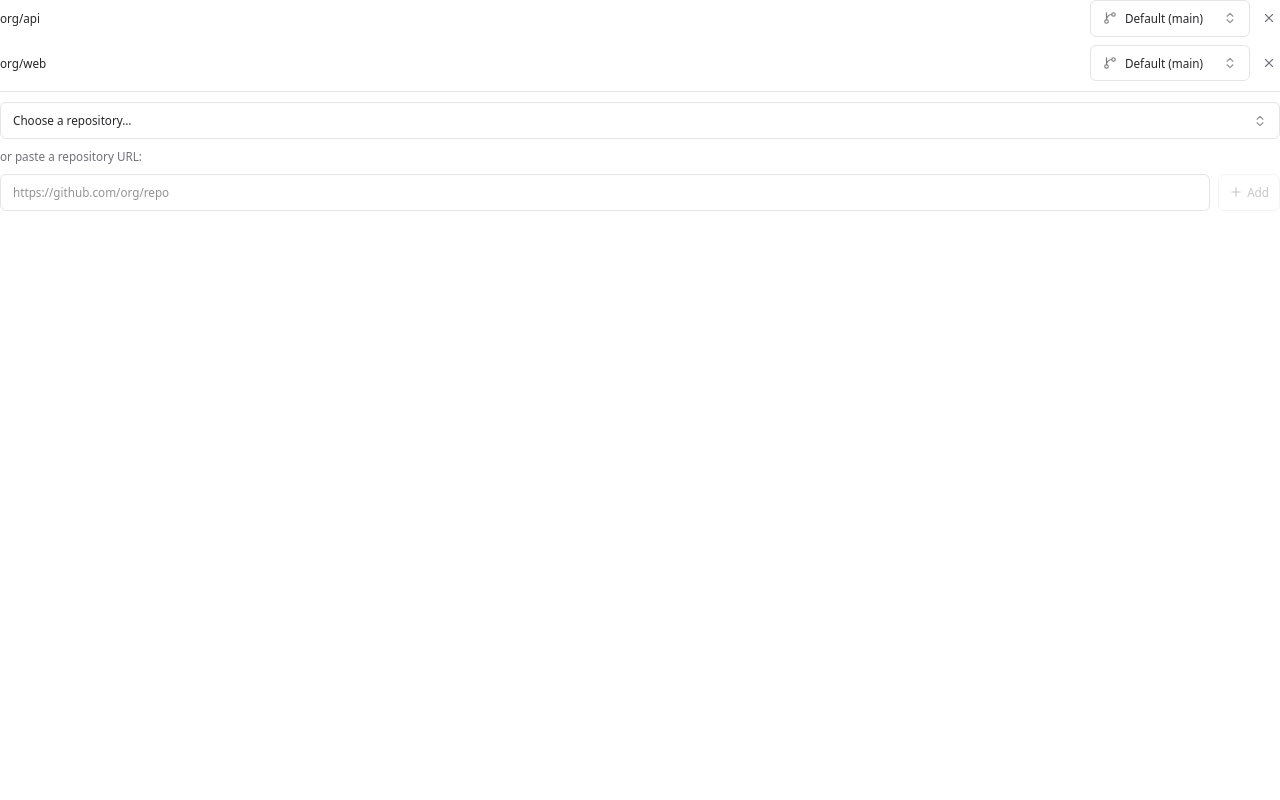
Scenario: SandboxRepositoryPicker › loads only the opened repository's branches and reuses them when reopened
Click the dropdown named "Branch for org/api": (1170, 18) x1=1090 y1=0 x2=1250 y2=37
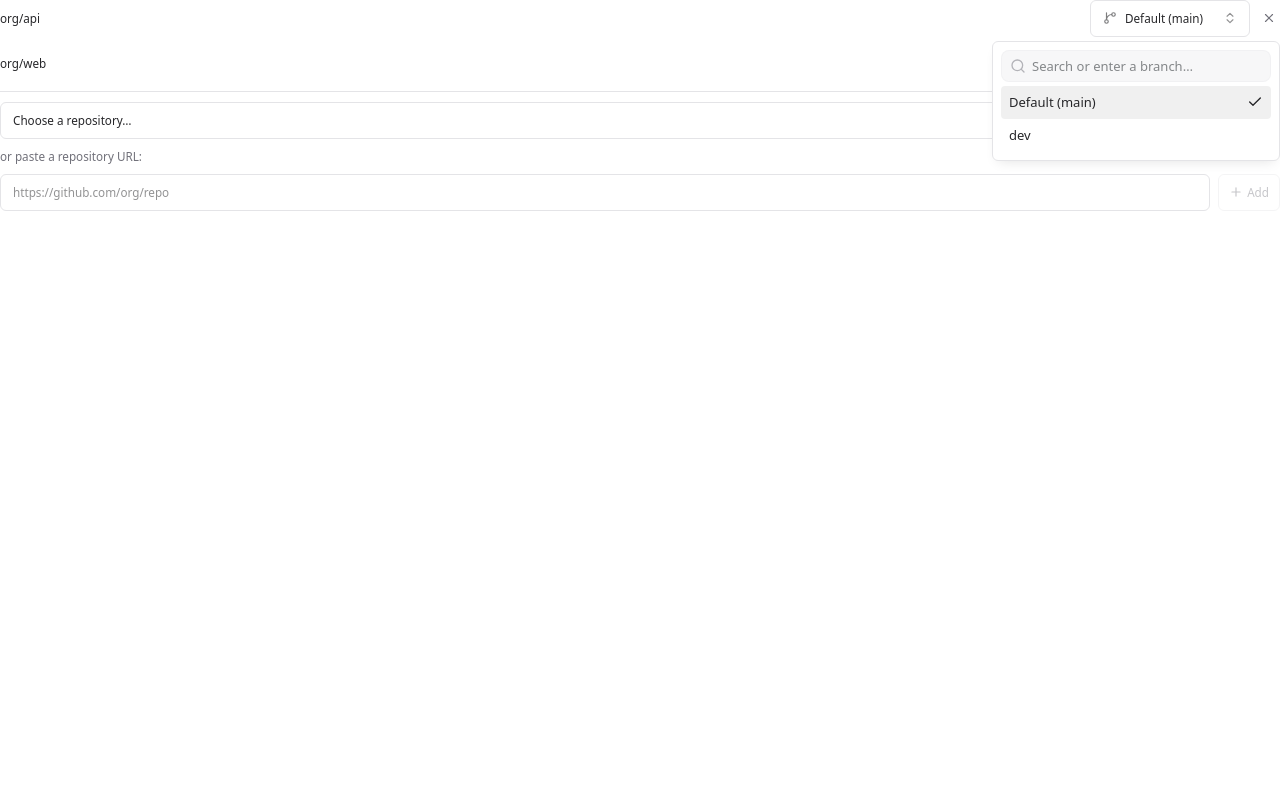
Click the option "dev": (1020, 135) x1=1009 y1=126 x2=1031 y2=144
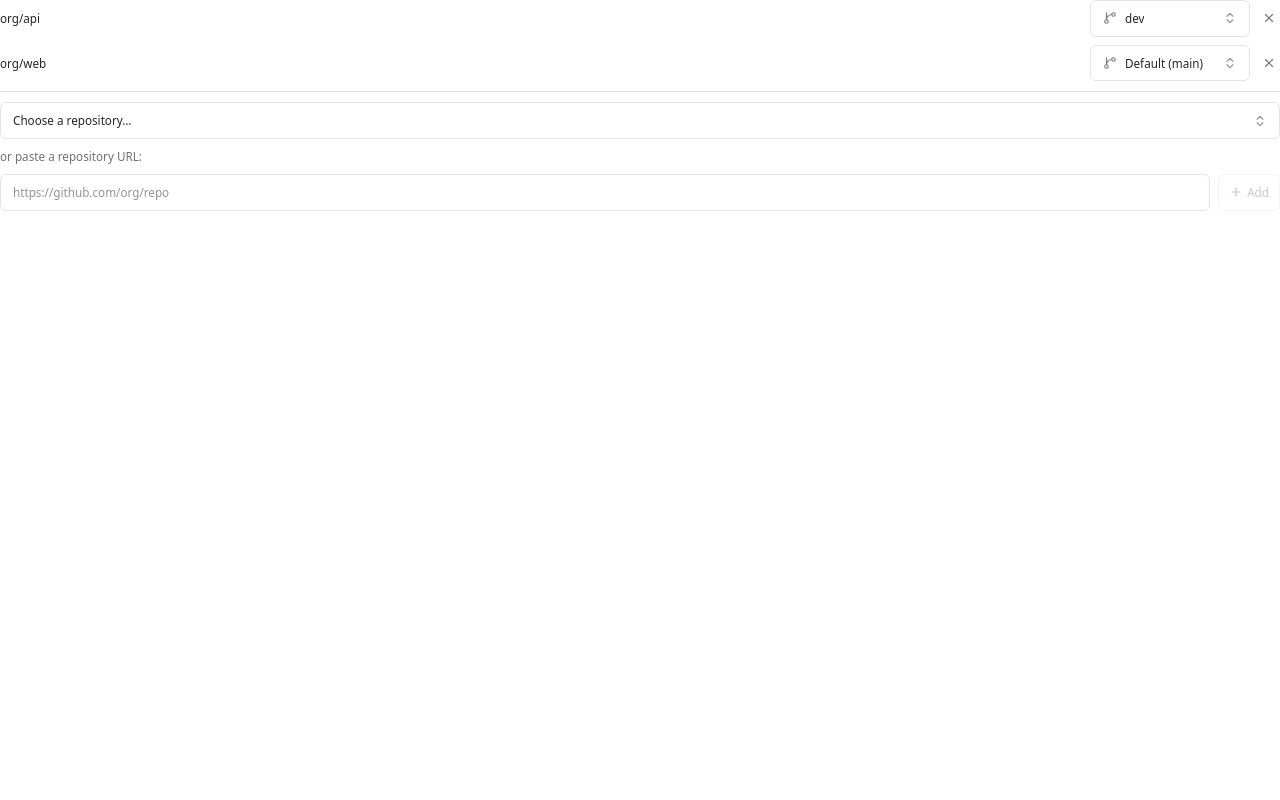
Click the dropdown named "Branch for org/api": (1170, 18) x1=1090 y1=0 x2=1250 y2=37
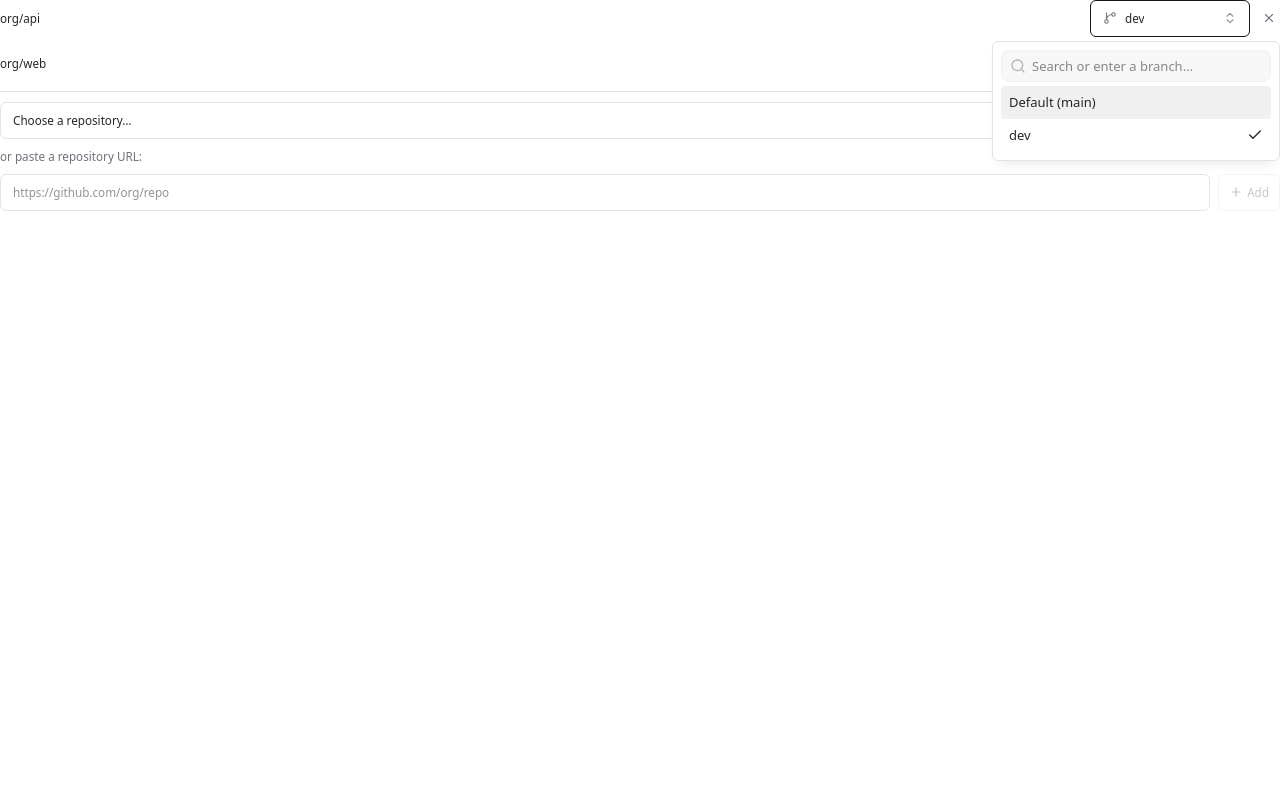
Result: the option "dev" is shown at x1=1009 y1=126 x2=1263 y2=144
